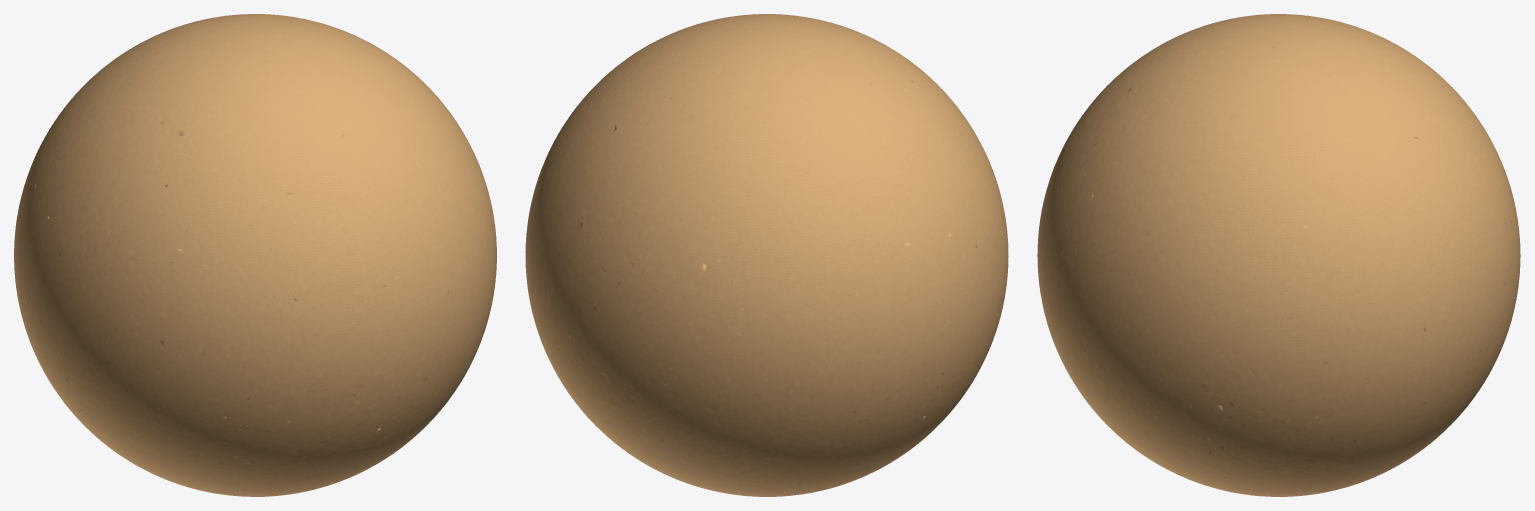
File: crepe_satin_2k.gltf
The picture shows the model from 3 angles, left to right: view 1: azimuth 30°, elevation 25°; view 2: azimuth 150°, elevation 25°; view 3: azimuth 270°, elevation 25°; orthographic projection.
Visible parts, largest first — view 1: sphere_gltf; view 2: sphere_gltf; view 3: sphere_gltf.
Boxes of the visible parts, <box> form: sphere_gltf: <box>14,14,496,496</box>; sphere_gltf: <box>525,14,1008,496</box>; sphere_gltf: <box>1037,14,1520,496</box>.
Size of the model in its own units: 0.2679 by 0.2679 by 0.268.
1 material, 1 textured.
